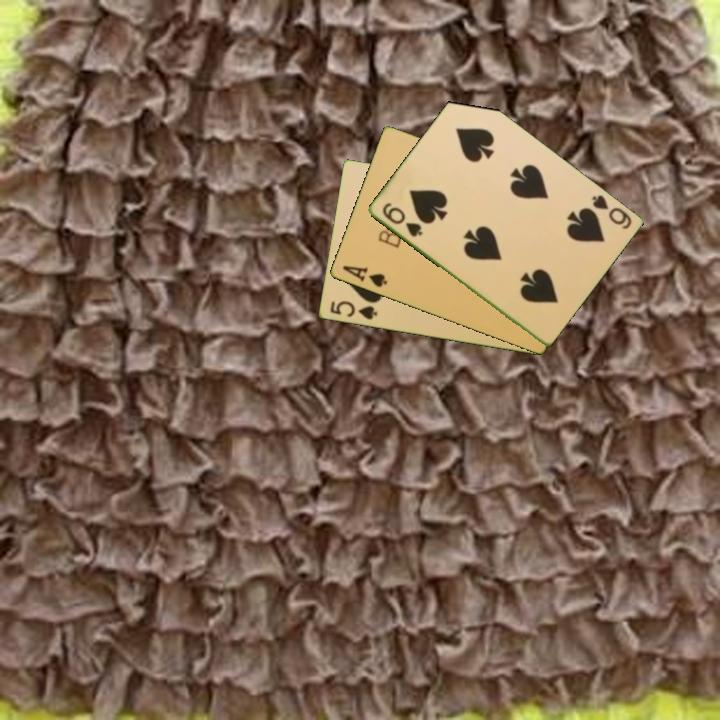5s: (326, 298, 380, 323)
6s: (588, 191, 634, 233), (378, 199, 425, 240)
As: (338, 262, 390, 290)
